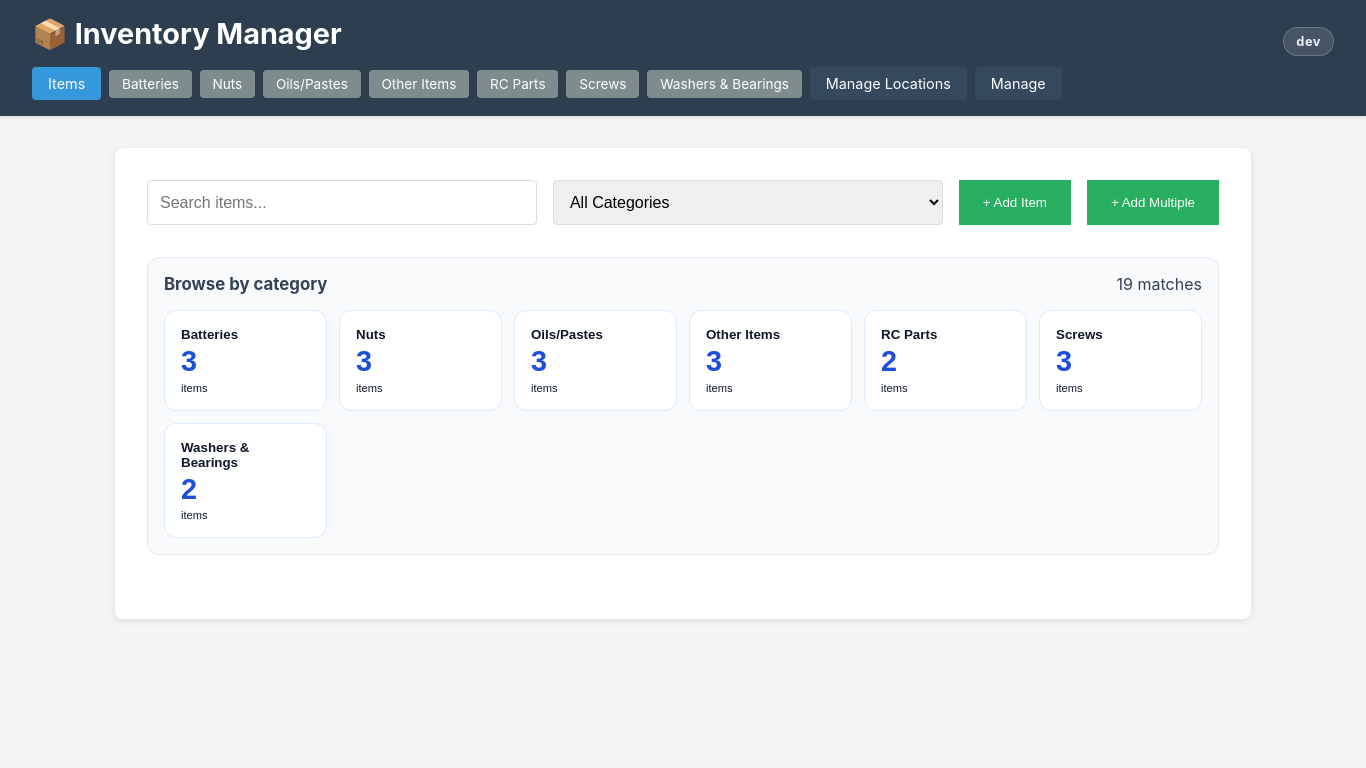
Test: switching categories in the app › Nuts opens sorted by its default column (Size ↑)
This screenshot has width=1366, height=768.
Click the link "Nuts" at (227, 84), box [200,70,255,98]
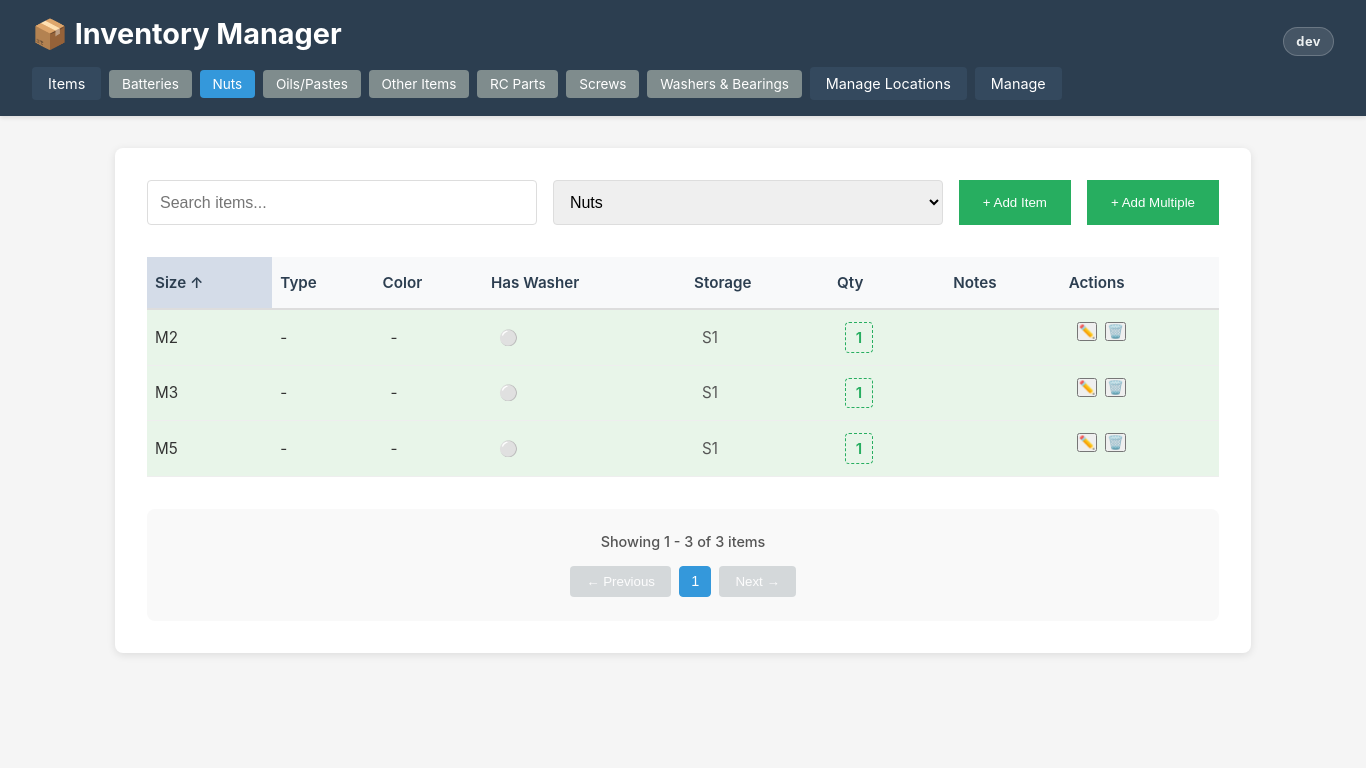
Check: the column heading "Size ↑" is shown, box [147,257,272,309]
